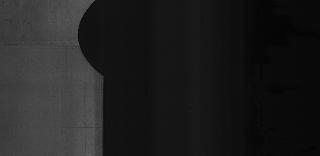welding line: (2, 39, 84, 53)
